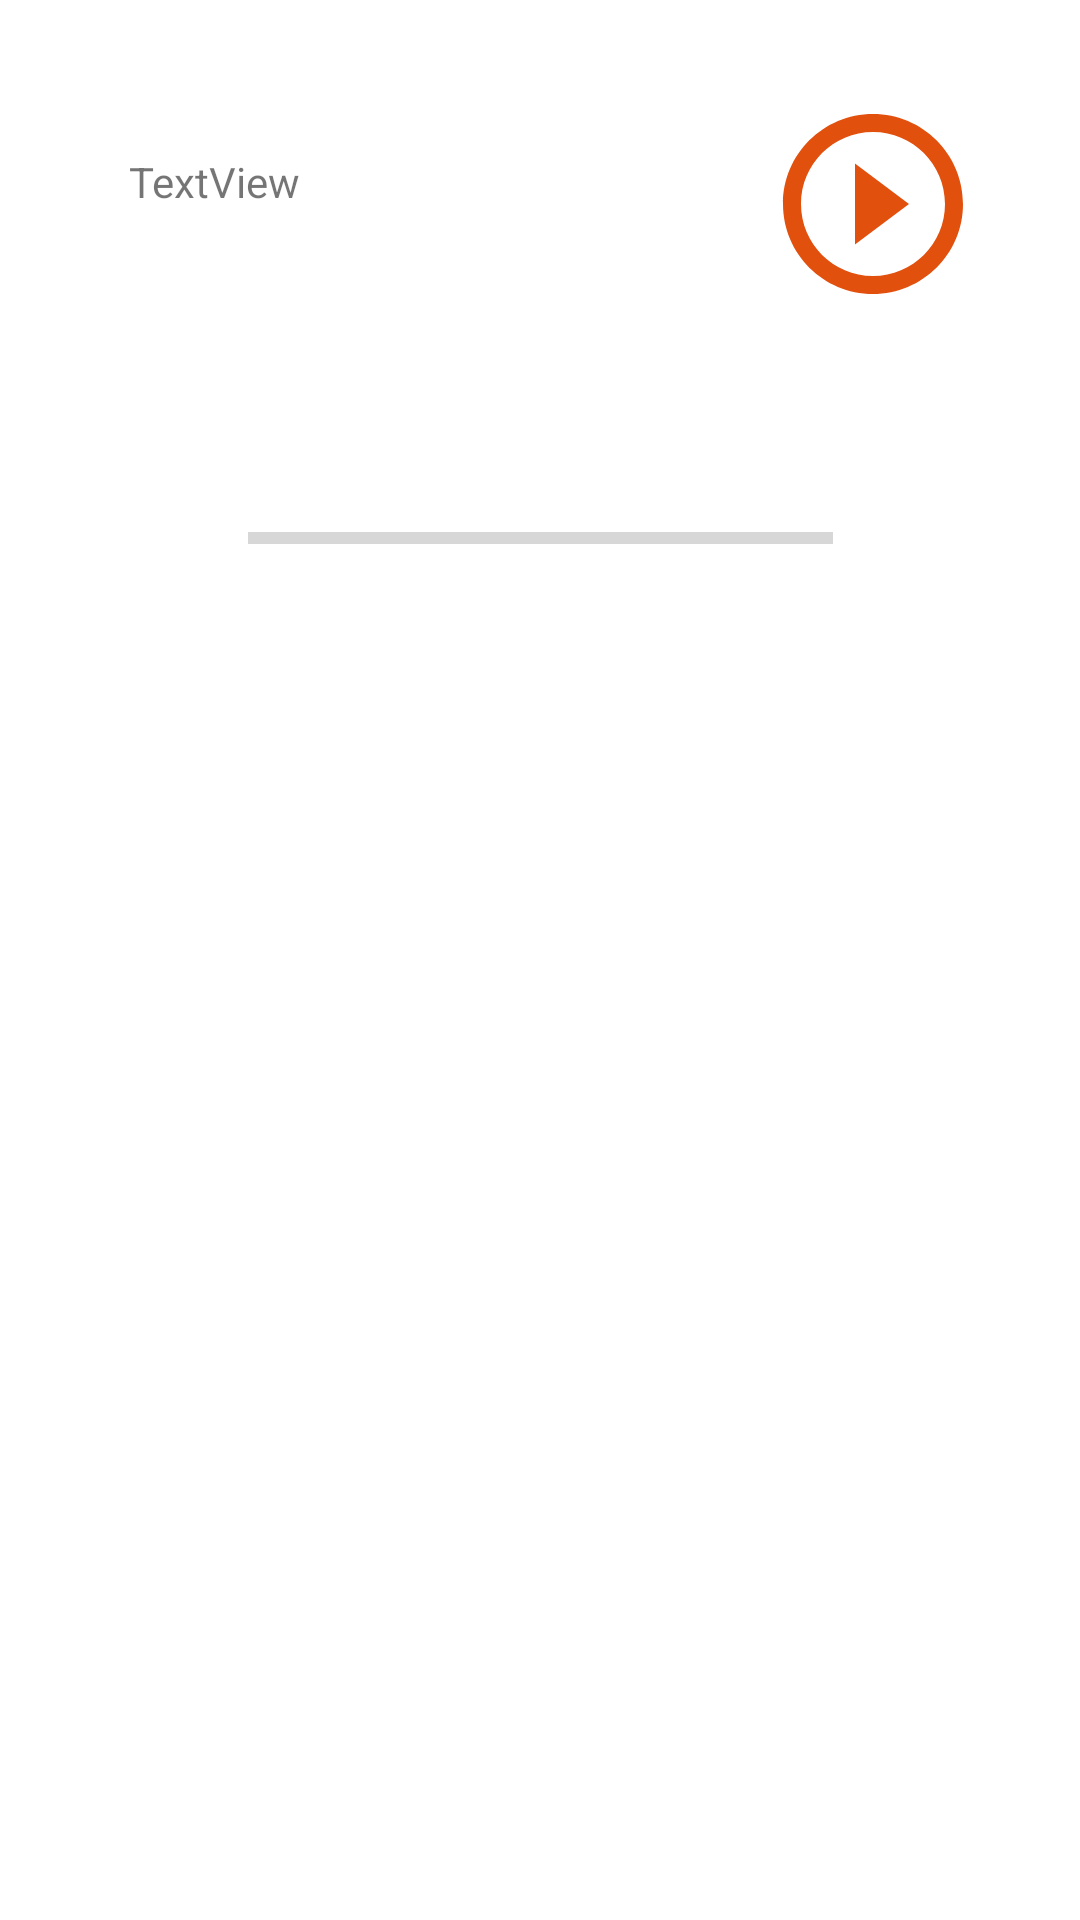

Icons on this 1080*1920 Android screen, each with the point to tap as [x,y]:
play: [872,204]
